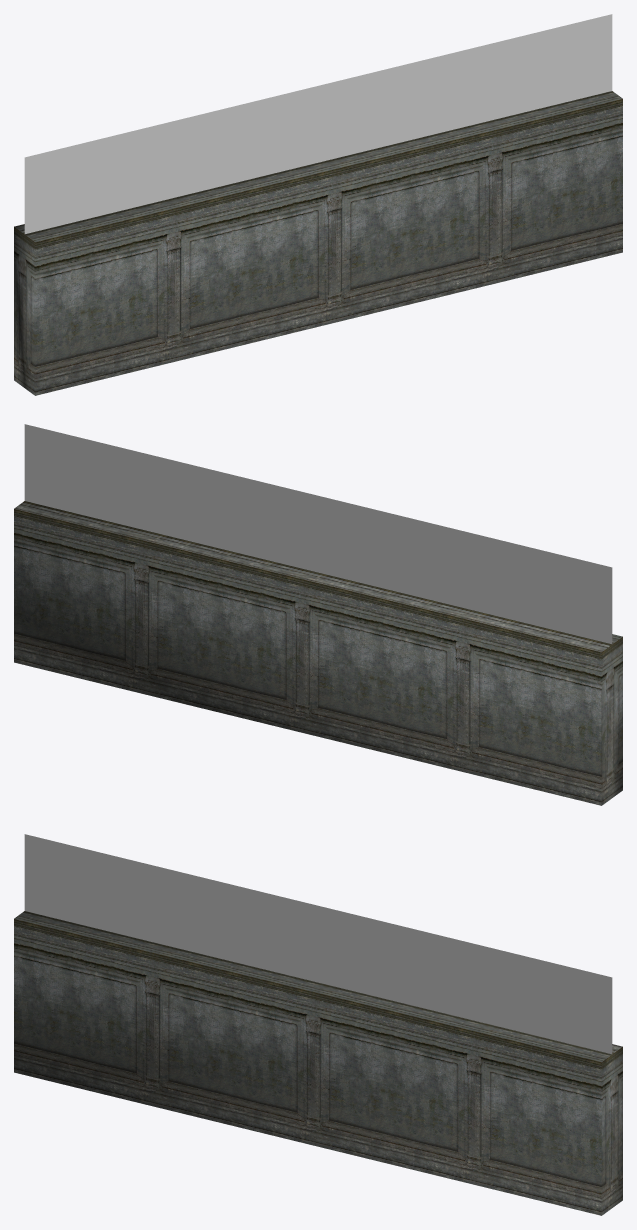
Rendered from CityFence01.dae.
3 views of the same model, one above another, from view 1: azimuth 30°, elevation 25°; view 2: azimuth 150°, elevation 25°; view 3: azimuth 330°, elevation 25° (orthographic).
Visible parts, largest first — view 1: TTR_SMCityFence01; view 2: TTR_SMCityFence01; view 3: TTR_SMCityFence01.
Part boxes in pixels (left/top/right/bottom): TTR_SMCityFence01: left=14, top=14, right=622, bottom=395; TTR_SMCityFence01: left=14, top=424, right=622, bottom=805; TTR_SMCityFence01: left=14, top=834, right=622, bottom=1215.
Bounding box in the file's own units: 15.36 × 0.96 × 5.76.
Materials: 2 (1 with a texture image).
